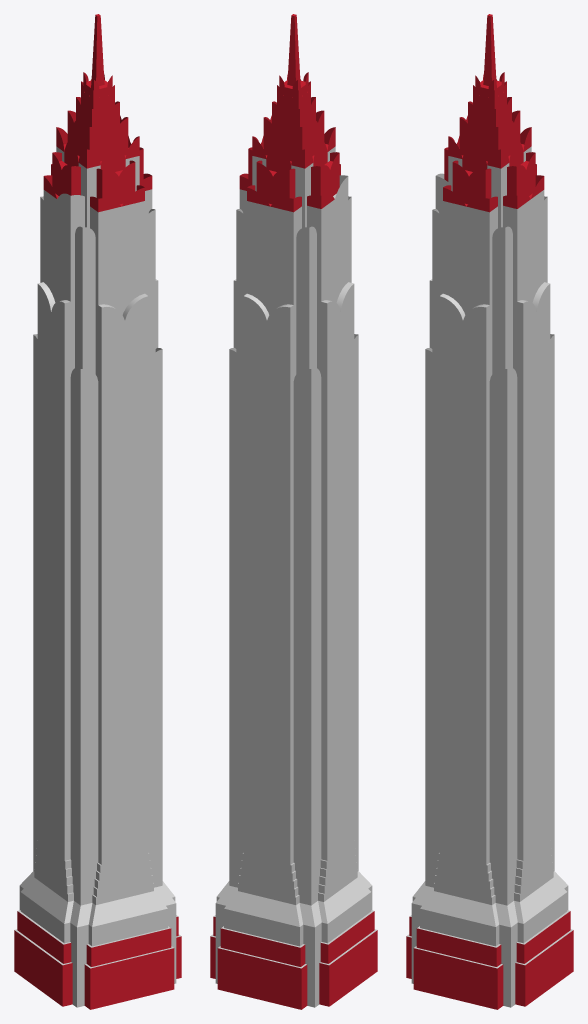
3 views of the same model, side by side, from view 1: azimuth 30°, elevation 25°; view 2: azimuth 150°, elevation 25°; view 3: azimuth 330°, elevation 25° (orthographic).
Visible parts, largest first — view 1: gedung 10; view 2: gedung 10; view 3: gedung 10.
Part boxes in pixels (<box>): gedung 10: <box>14,14,181,1009</box>; gedung 10: <box>210,14,377,1009</box>; gedung 10: <box>406,14,573,1009</box>.
Bounding box in the file's own units: 14.12 × 109 × 14.12.
